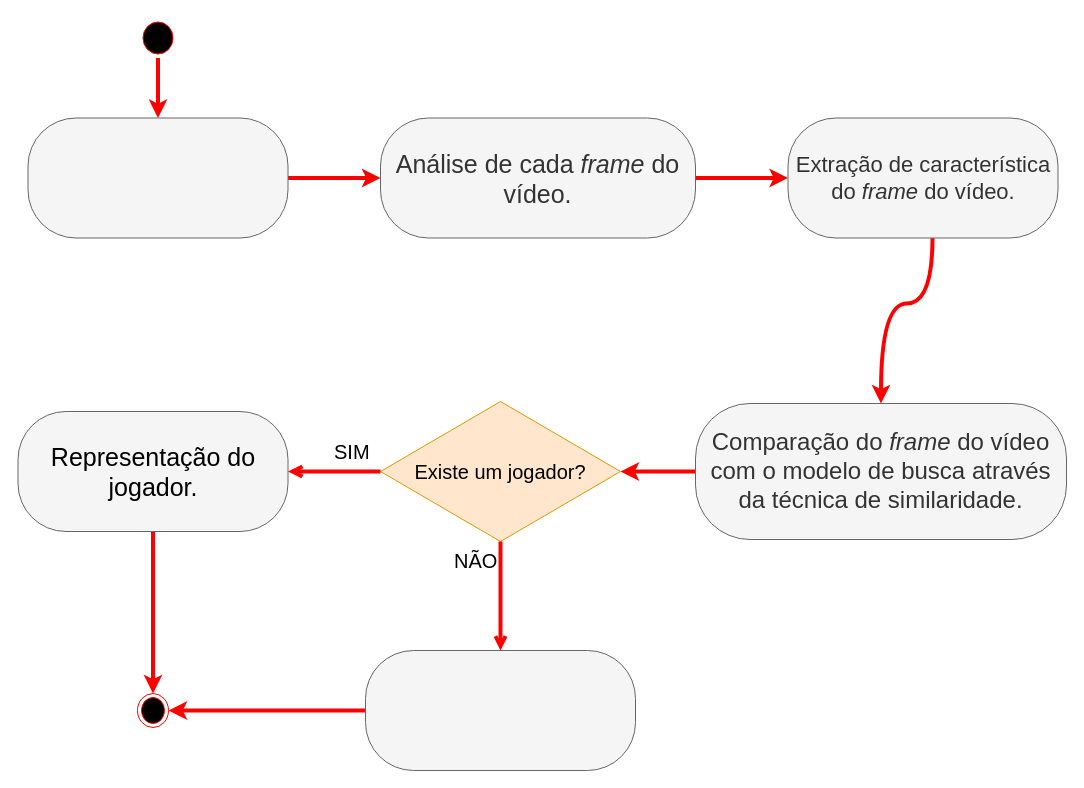
The diagram is 1084 pixels wide and 788 high, and some of its shapes have lost their labels. Here are the shapes that lost their labels. From the top down, the box of each, then its label:
(27, 117, 288, 238): Captura de uma partida de futebol americano.
(364, 650, 636, 770): Não faz nenhuma representação.
